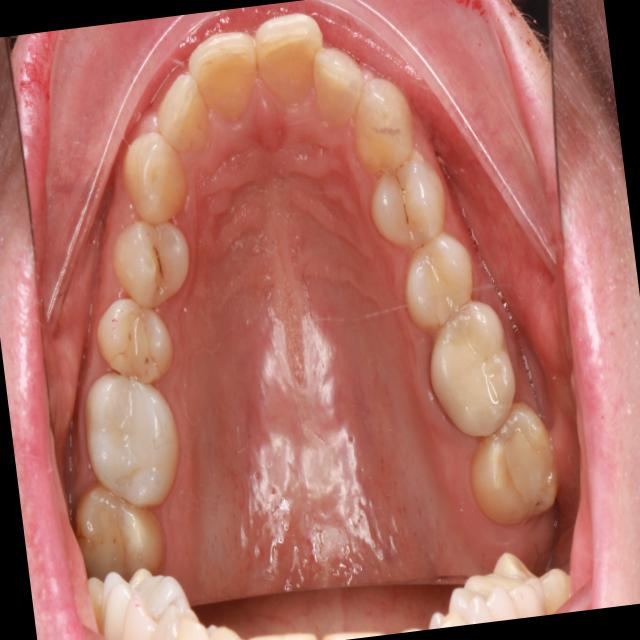tooth: (71, 355, 191, 519), (447, 394, 569, 536), (417, 294, 525, 447), (60, 472, 175, 590), (357, 137, 455, 257), (84, 283, 183, 394), (105, 204, 201, 318), (391, 221, 484, 338), (179, 18, 269, 136), (247, 0, 333, 119), (111, 123, 198, 232), (341, 64, 421, 177), (145, 54, 217, 165), (305, 33, 371, 129)
